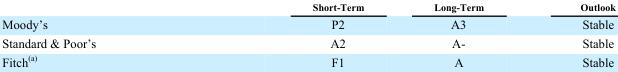table: (1, 1, 614, 68)
table column: (1, 1, 203, 68), (203, 1, 398, 68), (398, 1, 531, 68), (531, 1, 614, 68)
table column header: (1, 1, 614, 14)
table row: (1, 14, 614, 33), (1, 33, 614, 51), (1, 51, 614, 68), (1, 1, 614, 14)
